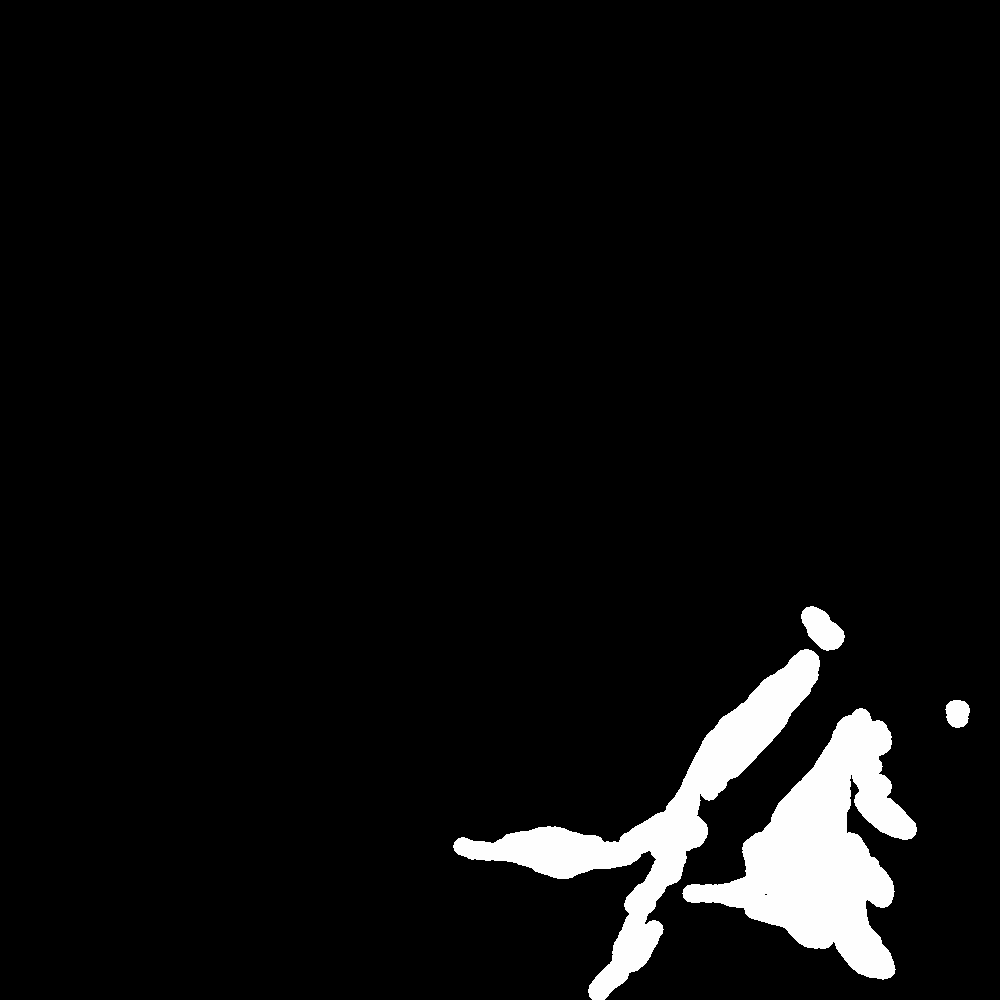illegal: (749, 732, 919, 964), (596, 785, 700, 994), (715, 610, 843, 753), (449, 825, 604, 875)
